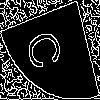C: (25, 24, 70, 73)
